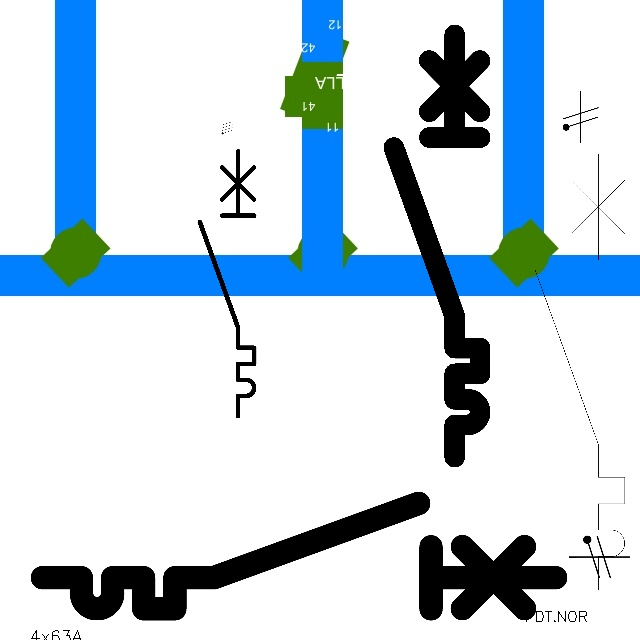interruptor_termomagnetico: (29, 490, 569, 622), (524, 142, 636, 601), (383, 24, 491, 468), (193, 144, 261, 422)
